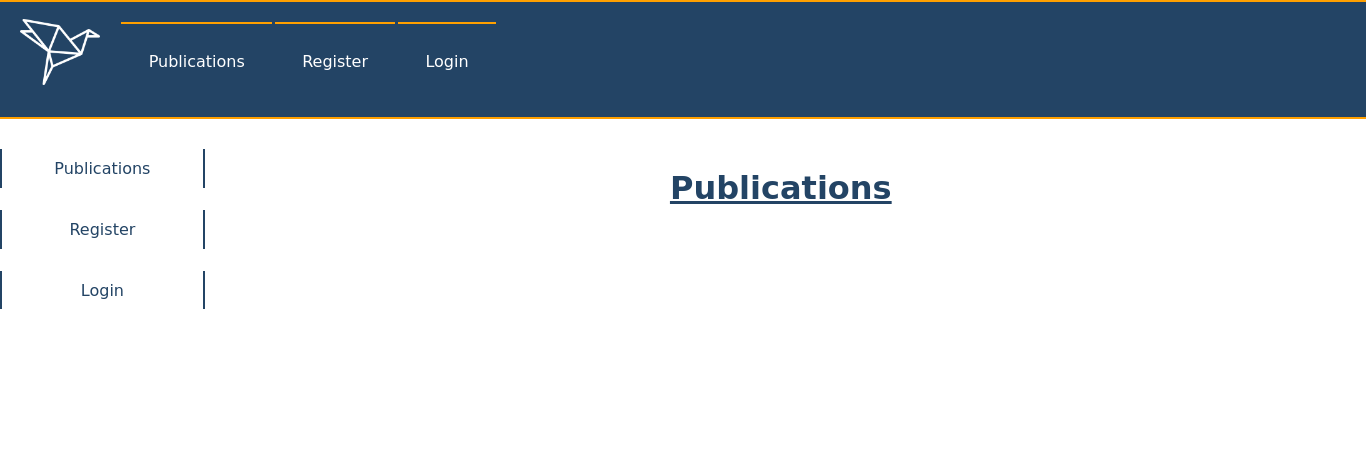
Test: Pages › Home page and navigate to register page
Click the element with test id "aside [data-test-id=\"link-Register\"]" at (103, 229), box [0,210,205,248]
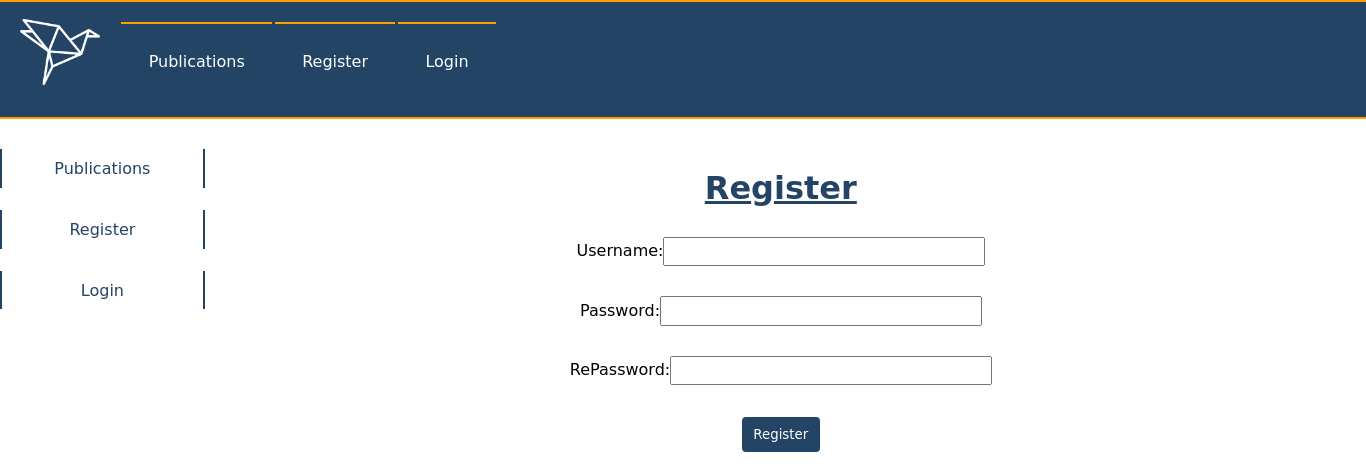
Result: the heading "Register" is shown at [705,169,857,207]
